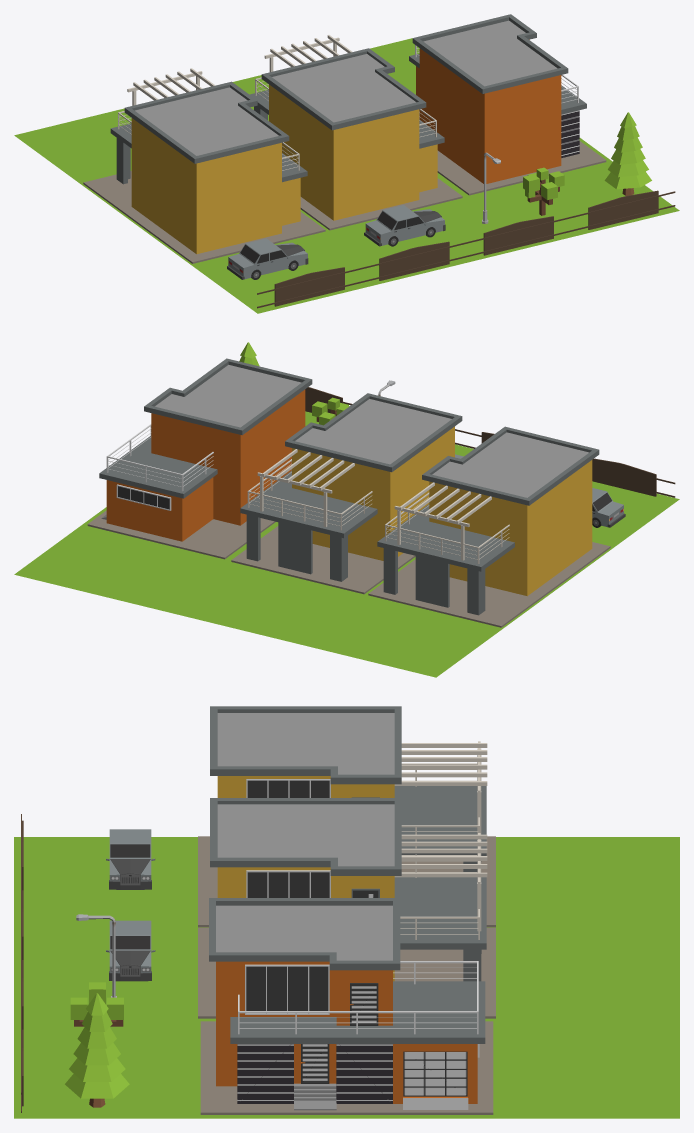
Rendered from remix-residential-row.glb.
3 views of the same model, one above another, from view 1: azimuth 30°, elevation 25°; view 2: azimuth 150°, elevation 25°; view 3: azimuth 270°, elevation 25° (orthographic). The views are drawn at different scales.
Visible parts, largest first — view 1: Building_House_01_color01_Cube.024 (×2), Natures_Grass Tile_Plane.010, Building_House_02_color01_Cube.029, Props_Fence_Cube.027, Vehicle_Car_Cube.050 (×2), Natures_Fir Tree_Cylinder.004, Natures_Cube Tree_Cube.017; view 2: Building_House_01_color01_Cube.024 (×2), Natures_Grass Tile_Plane.010, Building_House_02_color01_Cube.029, Props_Fence_Cube.027, Vehicle_Car_Cube.050, Natures_Cube Tree_Cube.017; view 3: Natures_Grass Tile_Plane.010, Building_House_01_color01_Cube.024 (×2), Building_House_02_color01_Cube.029, Vehicle_Car_Cube.050 (×2), Natures_Fir Tree_Cylinder.004, Natures_Cube Tree_Cube.017, Props_Fence_Cube.027.
Boxes of the visible parts, <box> form: Building_House_01_color01_Cube.024 (×2): <box>83,35,462,263</box>; Natures_Grass Tile_Plane.010: <box>14,38,679,313</box>; Building_House_02_color01_Cube.029: <box>409,14,606,195</box>; Props_Fence_Cube.027: <box>257,190,675,308</box>; Vehicle_Car_Cube.050 (×2): <box>227,205,445,279</box>; Natures_Fir Tree_Cylinder.004: <box>604,112,651,195</box>; Natures_Cube Tree_Cube.017: <box>523,167,564,215</box>; Building_House_01_color01_Cube.024 (×2): <box>231,393,610,627</box>; Natures_Grass Tile_Plane.010: <box>14,411,679,677</box>; Building_House_02_color01_Cube.029: <box>87,358,312,559</box>; Props_Fence_Cube.027: <box>305,387,675,497</box>; Vehicle_Car_Cube.050: <box>592,488,625,527</box>; Natures_Cube Tree_Cube.017: <box>312,397,349,425</box>; Natures_Grass Tile_Plane.010: <box>14,837,679,1118</box>; Building_House_01_color01_Cube.024 (×2): <box>198,706,495,1018</box>; Building_House_02_color01_Cube.029: <box>200,898,493,1114</box>; Vehicle_Car_Cube.050 (×2): <box>106,829,155,981</box>; Natures_Fir Tree_Cylinder.004: <box>65,993,129,1107</box>; Natures_Cube Tree_Cube.017: <box>70,982,123,1026</box>; Props_Fence_Cube.027: <box>21,814,23,1112</box>.
Bounding box in the file's own units: 40 × 9.05 × 40.
Materials: 5 (5 with a texture image).
